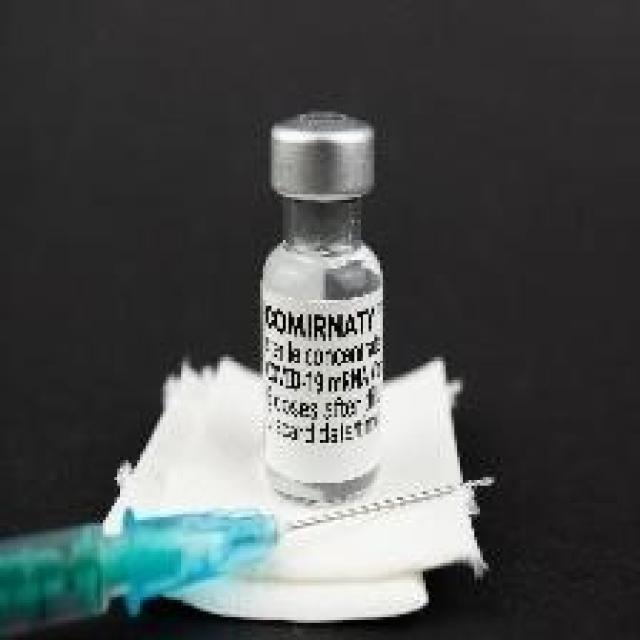syringe: (12, 463, 511, 627)
